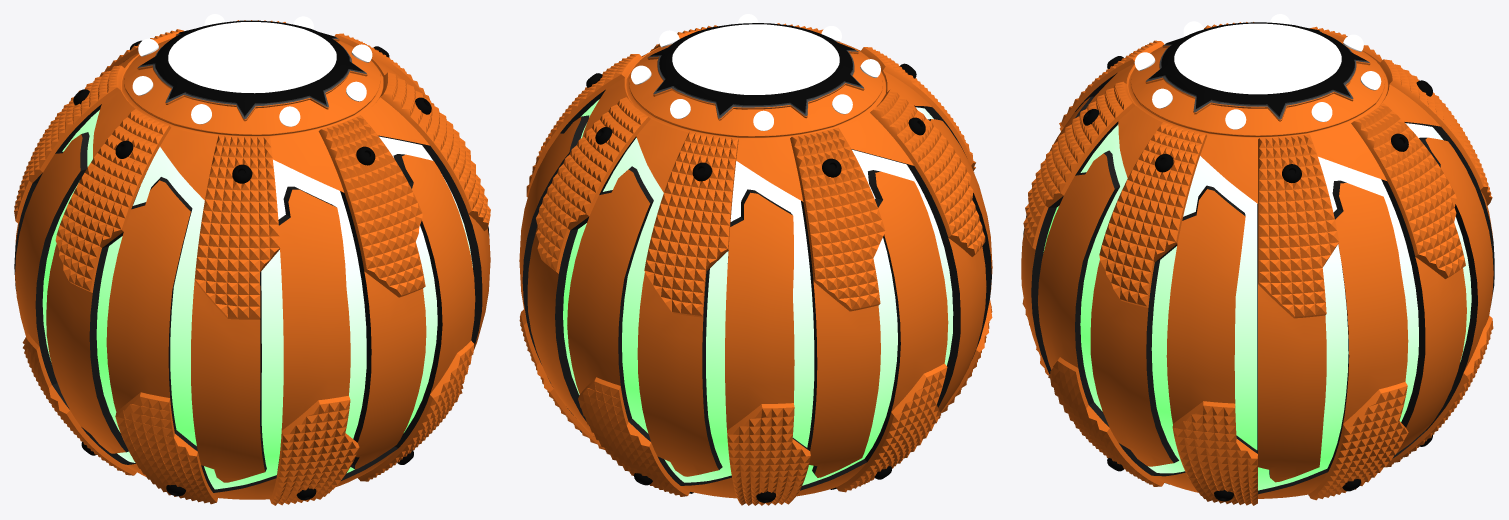
Rendered from green-goblin_bomb.glb.
The picture shows the model from 3 angles, left to right: view 1: azimuth 30°, elevation 25°; view 2: azimuth 150°, elevation 25°; view 3: azimuth 270°, elevation 25°; orthographic projection.
Parts seen in each view (by area): view 1: Object_4, Object_5, Object_13, Object_7, Object_9, Object_8, Object_6, Object_10; view 2: Object_4, Object_5, Object_13, Object_7, Object_9, Object_8, Object_6, Object_10; view 3: Object_4, Object_5, Object_13, Object_7, Object_9, Object_8, Object_6, Object_10.
Part boxes in pixels (<box>): Object_4: <box>14,20,490,505</box>; Object_5: <box>42,110,472,489</box>; Object_13: <box>14,61,489,492</box>; Object_7: <box>168,22,336,93</box>; Object_9: <box>141,20,363,115</box>; Object_8: <box>132,14,372,126</box>; Object_6: <box>73,40,431,500</box>; Object_10: <box>138,33,366,119</box>; Object_4: <box>519,23,992,505</box>; Object_5: <box>563,99,953,485</box>; Object_13: <box>522,89,991,490</box>; Object_7: <box>672,24,839,94</box>; Object_9: <box>651,23,860,493</box>; Object_8: <box>631,14,880,130</box>; Object_6: <box>580,63,925,502</box>; Object_10: <box>648,45,863,118</box>; Object_4: <box>1021,22,1493,505</box>; Object_5: <box>1043,123,1471,490</box>; Object_13: <box>1023,73,1494,494</box>; Object_7: <box>1174,23,1341,94</box>; Object_9: <box>1149,22,1366,495</box>; Object_8: <box>1134,14,1381,129</box>; Object_6: <box>1083,36,1432,501</box>; Object_10: <box>1146,31,1369,119</box>.
Bounding box in the file's own units: 1.97 × 1.96 × 1.97.
